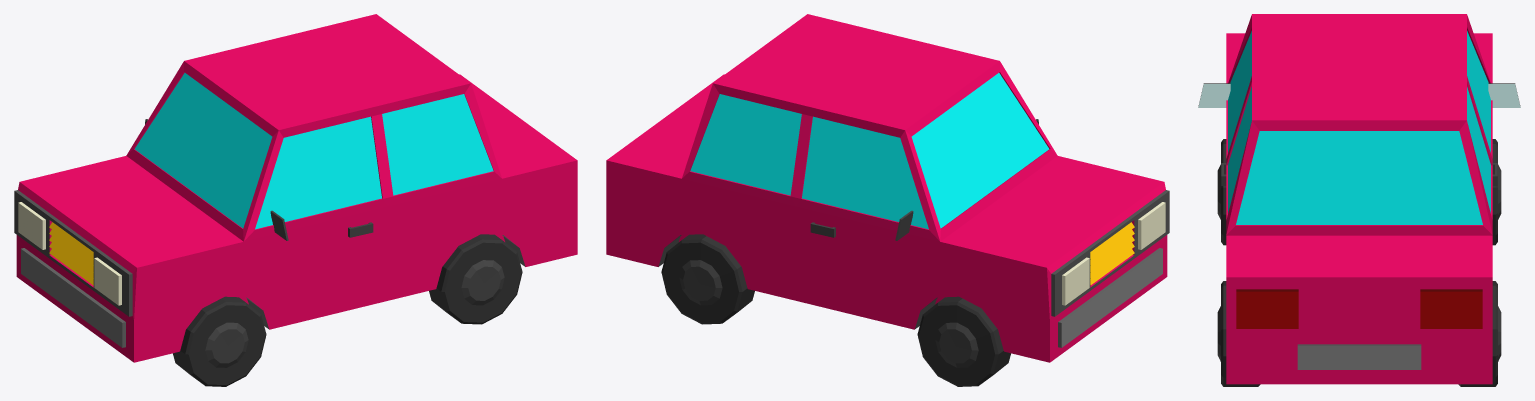
Rendered from Car.glb.
3 renders of one model, left to right at view 1: azimuth 30°, elevation 25°; view 2: azimuth 150°, elevation 25°; view 3: azimuth 270°, elevation 25°, orthographic. The views are drawn at different scales.
Visible parts, largest first — view 1: Car; view 2: Car; view 3: Car.
Part boxes in pixels (x1,y1,x2,y2): Car: (14,14,577,386); Car: (606,14,1169,386); Car: (1198,14,1520,386).
Size of the model in its own units: 3.35 by 1.63 by 1.81.
Materials: 1 (1 with a texture image).
